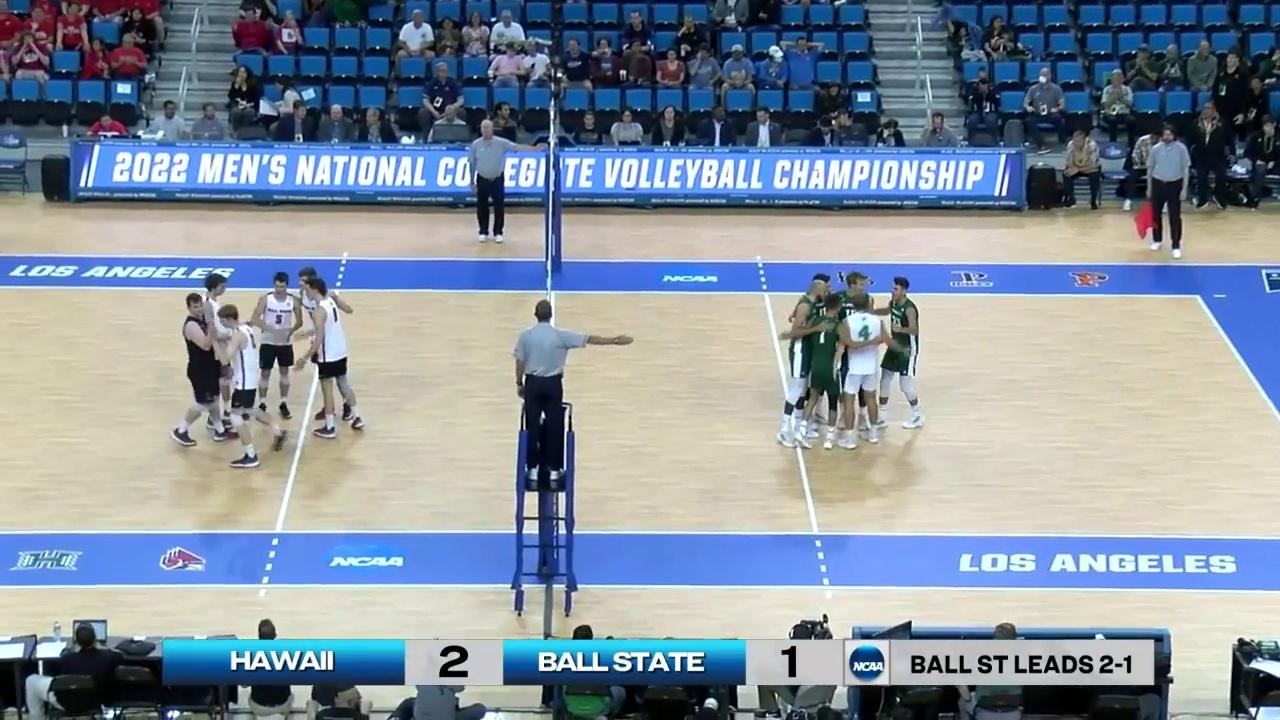player: (220, 303, 277, 469), (307, 279, 364, 440), (299, 266, 354, 419), (799, 296, 852, 451), (779, 281, 826, 449), (837, 290, 887, 447), (250, 273, 301, 420), (172, 294, 218, 445), (200, 274, 244, 428), (877, 280, 919, 438), (837, 273, 873, 419), (798, 272, 828, 426)
refree: (515, 301, 566, 486), (463, 110, 515, 242), (1140, 125, 1193, 254)
